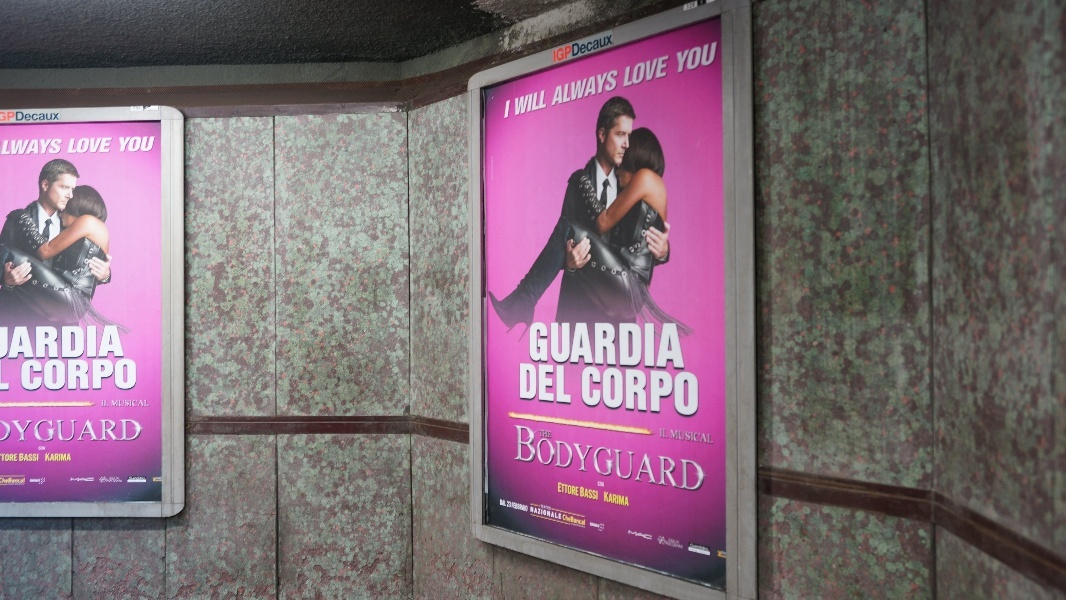text: (529, 425, 544, 491), (545, 425, 560, 491), (561, 425, 576, 491), (577, 425, 592, 491), (593, 425, 608, 491), (609, 425, 624, 491), (625, 425, 640, 491), (641, 425, 656, 491), (657, 425, 672, 491), (673, 425, 688, 491), (689, 425, 704, 491), (514, 425, 528, 491), (593, 366, 608, 417), (609, 366, 624, 417), (625, 366, 640, 417), (641, 366, 656, 417), (657, 366, 672, 417), (673, 366, 688, 417), (545, 323, 560, 369), (561, 323, 576, 369), (577, 323, 592, 369), (593, 323, 608, 369), (609, 323, 624, 369), (625, 323, 640, 369), (641, 323, 656, 369), (657, 323, 672, 369), (530, 323, 544, 369), (529, 363, 544, 403), (545, 363, 560, 403), (561, 69, 576, 107), (577, 69, 592, 107), (593, 69, 608, 107), (561, 363, 575, 403), (582, 366, 592, 417), (689, 366, 699, 417), (17, 325, 32, 359), (33, 325, 48, 359), (49, 325, 64, 359), (65, 325, 80, 359), (81, 325, 96, 359), (97, 325, 112, 359), (673, 323, 684, 369), (689, 41, 704, 74), (641, 55, 656, 88), (561, 31, 576, 63), (577, 31, 592, 63), (593, 31, 608, 63), (33, 359, 48, 391), (49, 359, 64, 391), (65, 359, 80, 391), (81, 359, 96, 391), (97, 359, 112, 391), (113, 359, 128, 391), (626, 55, 640, 88), (705, 41, 718, 74), (113, 325, 125, 359), (676, 41, 688, 74), (657, 55, 669, 88), (529, 90, 544, 116), (609, 69, 619, 107), (21, 359, 32, 391), (17, 419, 32, 442), (33, 419, 48, 442), (49, 419, 64, 442), (65, 419, 80, 442), (81, 419, 96, 442), (97, 419, 112, 442), (113, 419, 128, 442), (515, 90, 528, 116), (129, 419, 142, 442), (521, 363, 528, 403), (129, 359, 137, 391), (609, 491, 624, 507), (17, 139, 32, 155), (33, 139, 48, 155), (49, 139, 64, 155), (97, 138, 113, 153), (129, 137, 144, 153), (561, 482, 576, 497), (81, 138, 96, 153), (553, 31, 560, 63), (673, 430, 688, 444), (689, 430, 704, 444), (689, 543, 704, 557), (658, 536, 672, 550), (513, 499, 528, 512), (545, 507, 560, 520), (4, 139, 16, 155), (145, 137, 156, 153), (531, 507, 544, 520), (673, 536, 685, 550), (1, 111, 16, 122), (17, 111, 32, 122), (33, 111, 48, 122), (500, 499, 512, 512), (563, 514, 576, 526), (581, 487, 592, 501), (70, 138, 80, 153), (119, 137, 128, 153), (145, 475, 161, 484), (113, 475, 128, 484), (129, 475, 144, 484), (49, 453, 64, 462), (705, 430, 714, 444), (98, 475, 112, 484), (641, 530, 653, 540), (1, 454, 16, 462), (19, 453, 32, 462), (11, 419, 16, 442), (557, 69, 560, 107), (506, 100, 512, 119), (629, 530, 640, 540), (49, 111, 59, 122), (660, 429, 672, 438), (577, 514, 586, 526), (113, 400, 128, 407), (129, 400, 144, 407), (609, 31, 612, 63), (593, 487, 599, 501), (705, 543, 711, 557), (545, 90, 548, 116), (3, 477, 16, 483), (598, 481, 608, 488), (102, 400, 112, 407), (81, 477, 94, 482), (604, 491, 608, 507), (625, 491, 629, 507), (545, 430, 552, 439), (721, 551, 727, 560), (65, 453, 71, 462), (33, 453, 39, 462), (70, 477, 80, 482), (38, 446, 48, 451), (17, 477, 25, 483), (539, 430, 544, 439), (577, 482, 580, 497), (577, 523, 586, 528), (545, 504, 551, 511), (593, 522, 600, 528), (15, 325, 16, 359), (558, 482, 560, 497), (670, 430, 672, 444), (145, 400, 149, 407), (45, 453, 48, 462), (571, 523, 576, 528), (541, 504, 544, 511), (718, 551, 720, 560), (561, 507, 562, 520), (17, 454, 18, 462), (111, 400, 112, 407), (591, 522, 592, 528)
